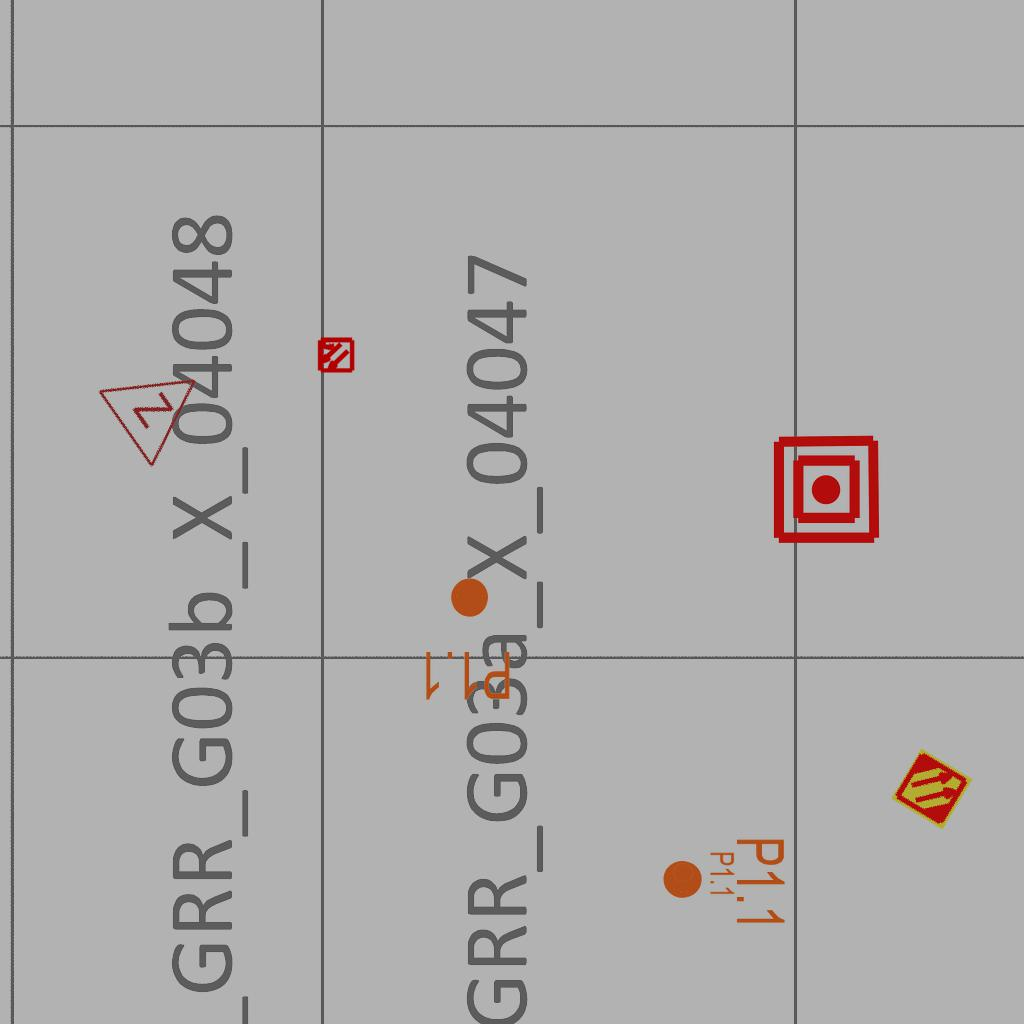ASR_Ansaugrauchmelder: (889, 746, 975, 832)
Downlight_LED_Einbauleuchten_Flur: (660, 836, 788, 929), (420, 575, 513, 703), (672, 851, 736, 897)
NAM-Nichtautomatischer_Melder: (770, 433, 883, 546)
OT_Multisensormelder_(Kombination_RMO_WMD): (307, 327, 363, 383)
Zimmersignalleuchte: (89, 335, 229, 473)
